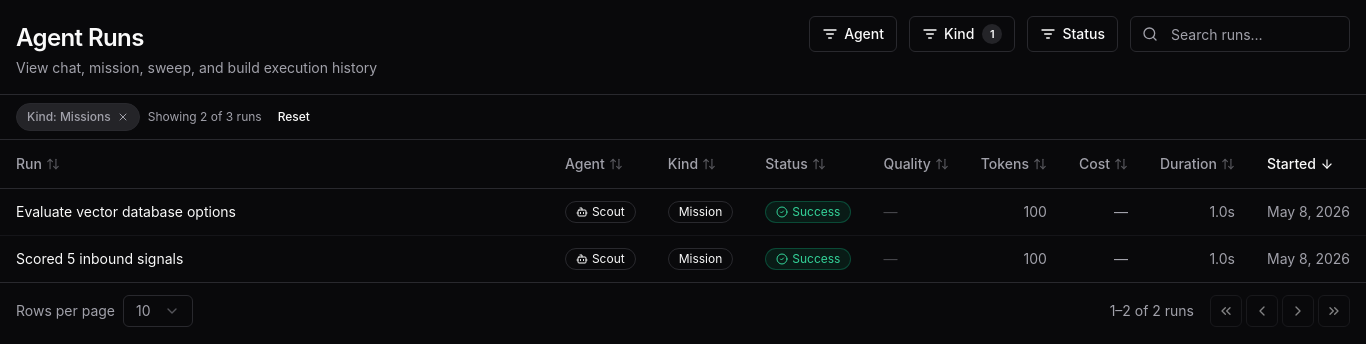
Test: RunsTable hidden kind facet + chip › ANDs the hidden kind facet (via initialKindFacet) with the search box
This screenshot has width=1366, height=344.
Type "vector database" into the search field with test id "runs-search-input" at (1240,34), box [1130,16,1350,52]
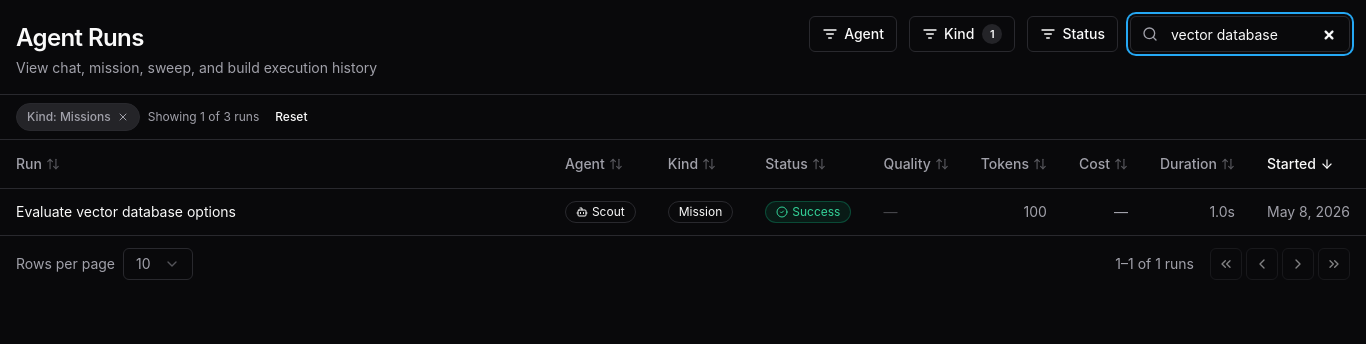
Expected: the row with test id "run-row-combo-match" is shown, [0,188,1365,234]
Result: the row with test id "run-row-combo-wrong-search" is gone
